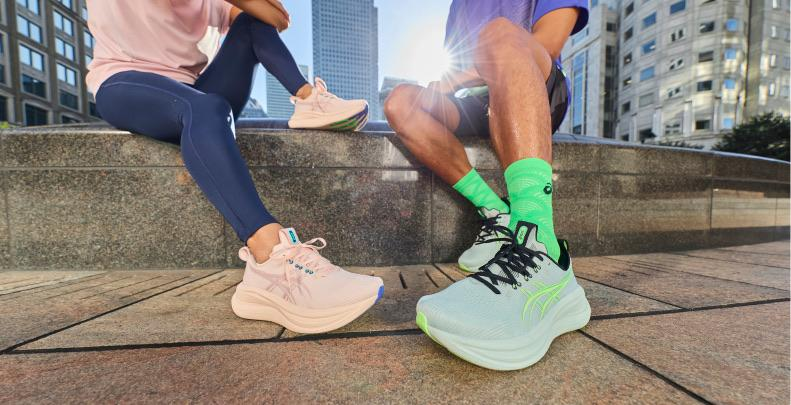asics logo: (514, 272, 575, 334), (246, 266, 318, 309), (297, 95, 342, 115)
